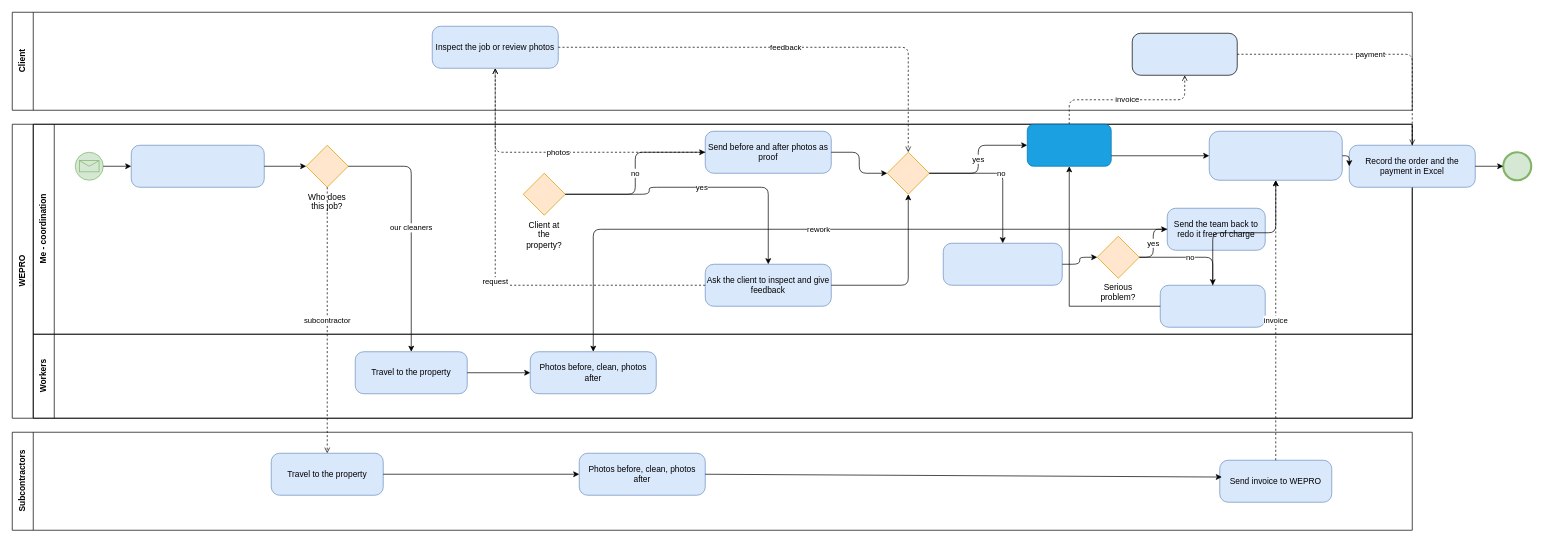
The diagram is 1553 pixels wide and 543 high, and some of its shapes have lost their labels. The shapes that lost their labels are listed below. From the top down, each one's centre as x and y in pixels, then its label:
(x=1184, y=54): Pay for the job
(x=1069, y=145): Send invoice for the client
(x=1275, y=155): Pay our cleaners, or receive and pay the subcontractor invoice
(x=89, y=166): Order confirmed
(x=197, y=166): Send job details: address, time, what is included
(x=908, y=173): Client happy?
(x=1517, y=166): Order closed
(x=1002, y=264): Ask for photos of the problem area
(x=1212, y=306): Agree a discount
